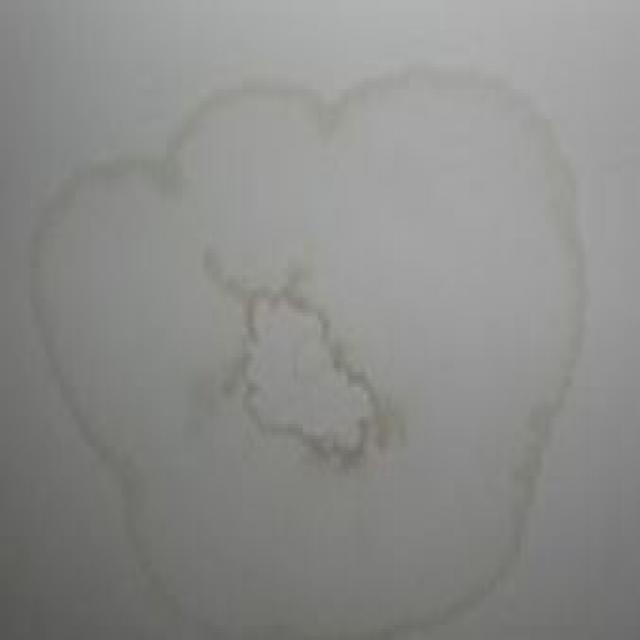tile: (26, 62, 587, 640)
